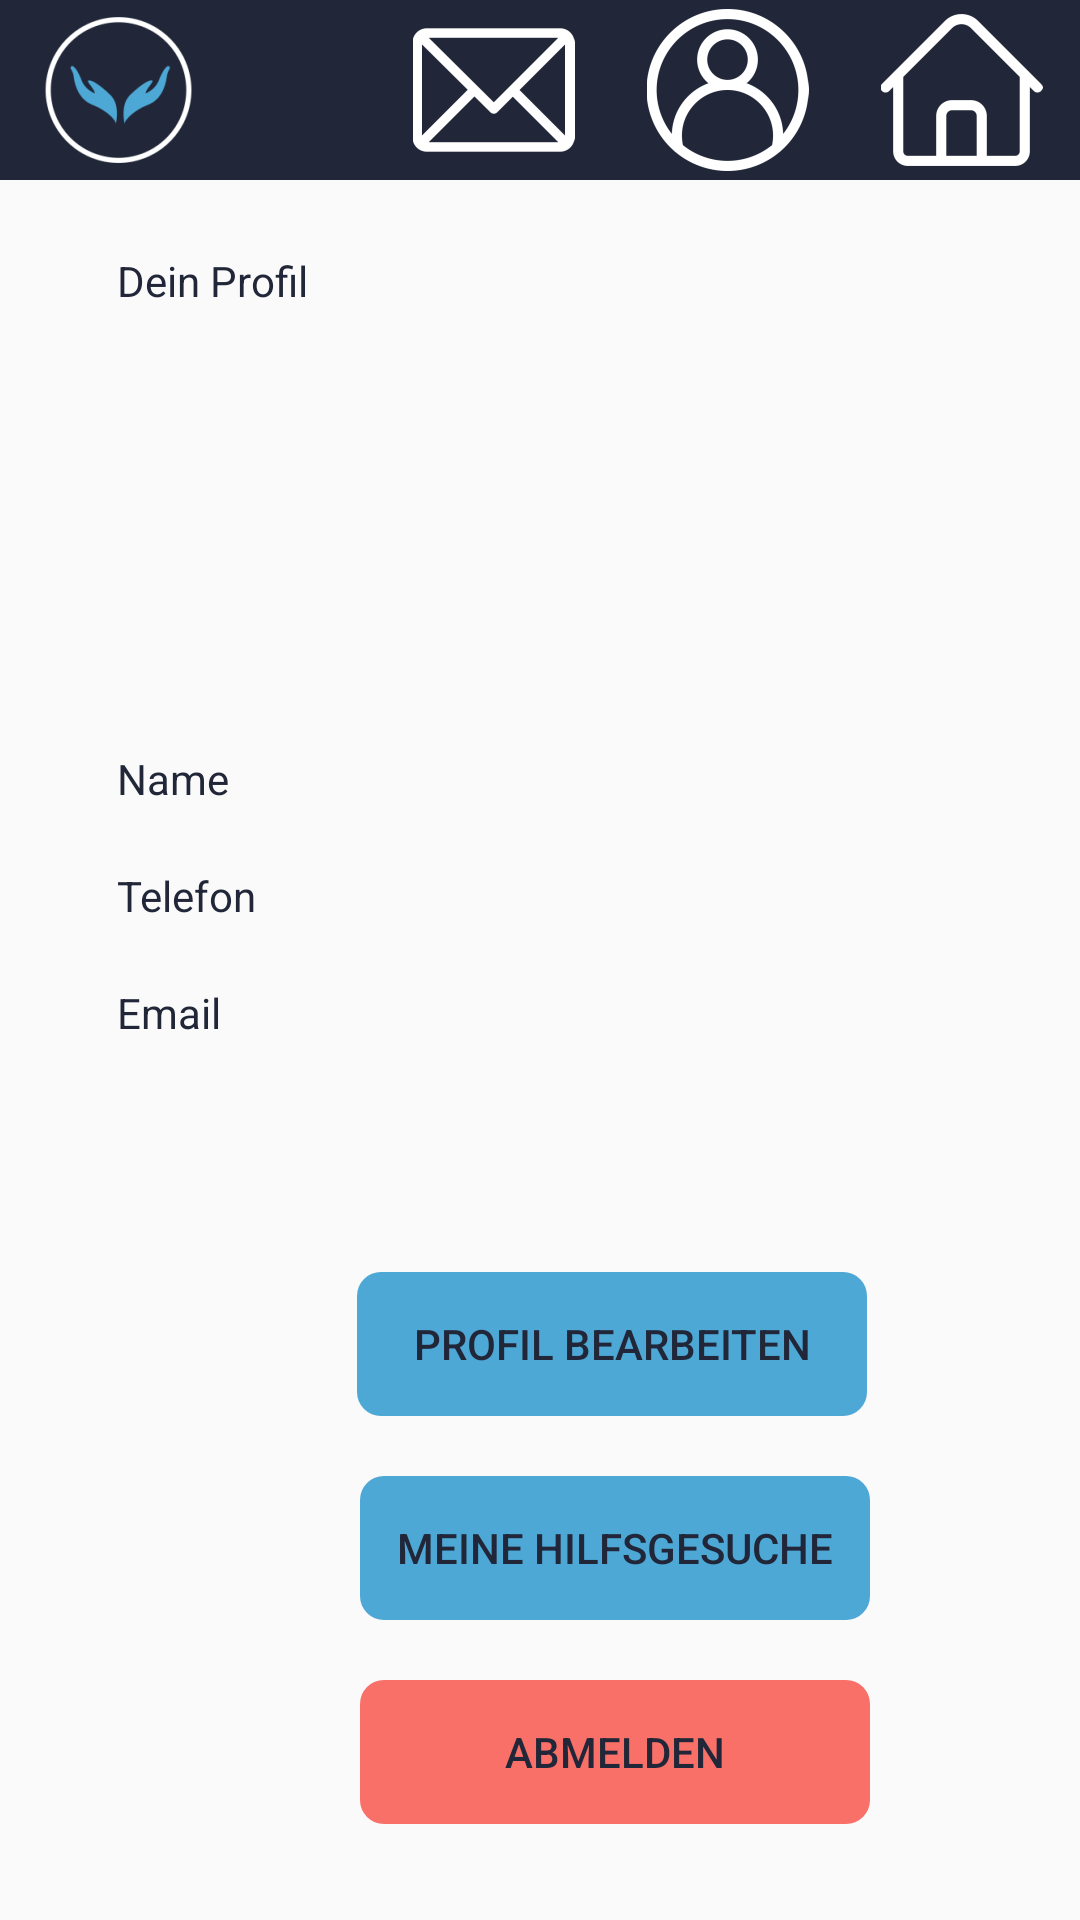

Screen size 1080w x 1920h. Icon name, then its center in pixels as (x=x, y=y):
home: (x=962, y=90)
message: (x=494, y=90)
profile: (x=728, y=90)
